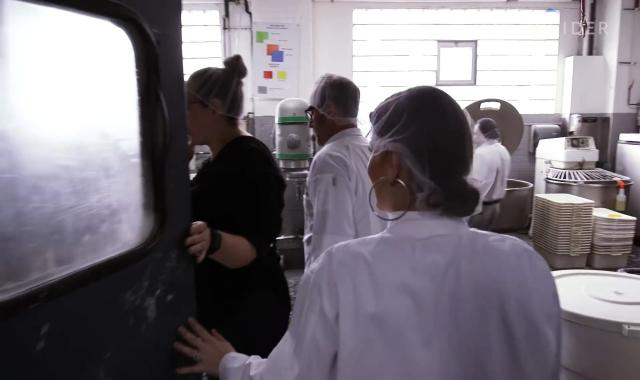hairnet: (368, 86, 476, 216), (188, 52, 249, 118), (311, 75, 359, 124), (478, 118, 501, 144)
